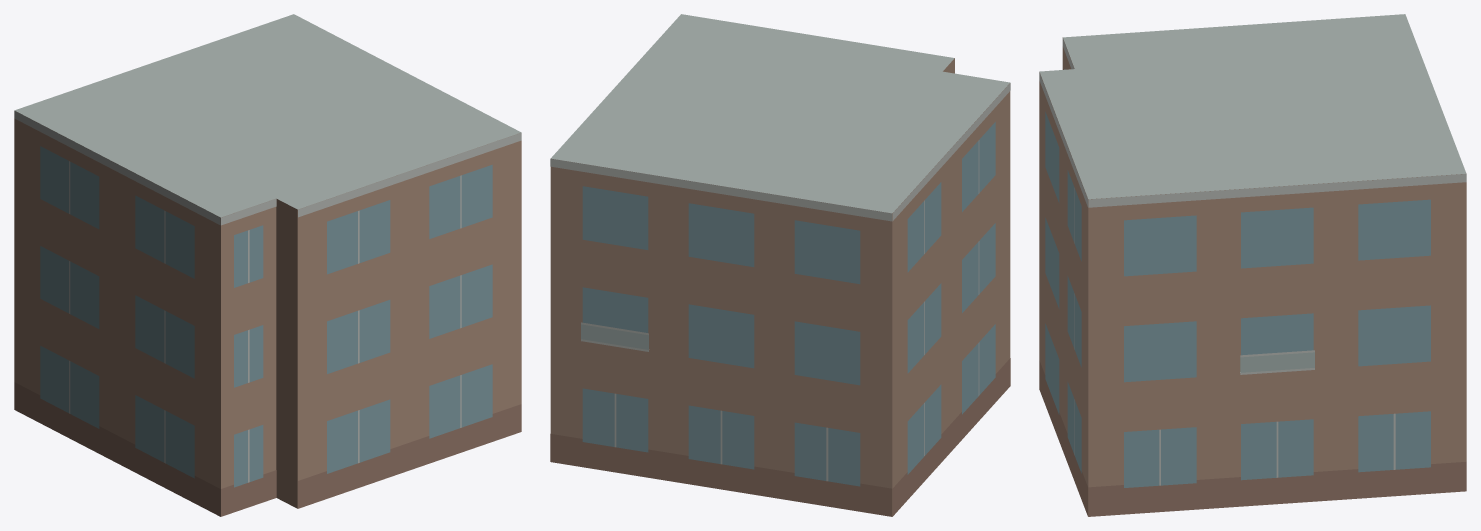
Rendered from survey-upis-33001852.glb.
The picture shows the model from 3 angles, left to right: view 1: azimuth 30°, elevation 25°; view 2: azimuth 150°, elevation 25°; view 3: azimuth 270°, elevation 25°; orthographic projection. The views are drawn at different scales.
Visible parts, largest first — view 1: survey-upis-33001852.tmp; view 2: survey-upis-33001852.tmp; view 3: survey-upis-33001852.tmp.
Part boxes in pixels (x1,y1,x2,y2): survey-upis-33001852.tmp: (14, 14, 521, 516); survey-upis-33001852.tmp: (550, 14, 1010, 516); survey-upis-33001852.tmp: (1039, 14, 1466, 516).
Bounding box in the file's own units: 11.46 × 9.15 × 11.17.
